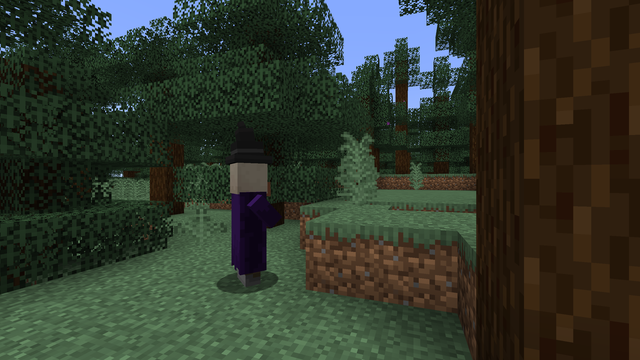sorcieres: (220, 157, 273, 290)
